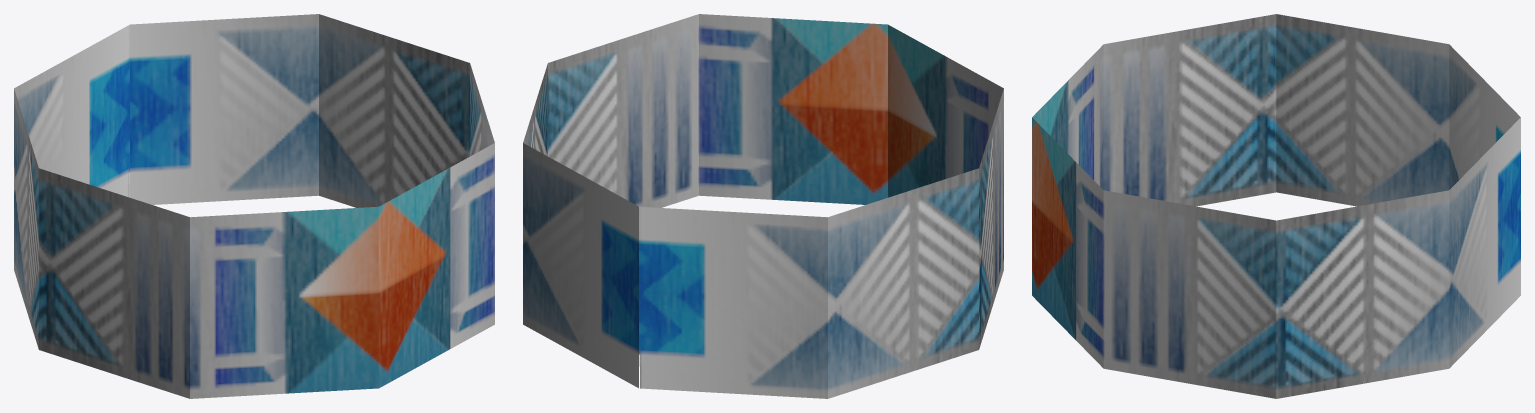
File: taste_5.obj
3 views of the same model, side by side, from view 1: azimuth 30°, elevation 25°; view 2: azimuth 150°, elevation 25°; view 3: azimuth 270°, elevation 25° (orthographic).
Visible parts, largest first — view 1: wheel_d; view 2: wheel_d; view 3: wheel_d.
Boxes of the visible parts, x1,y1,x2,y2 form: wheel_d: (14,14,494,398); wheel_d: (523,14,1003,398); wheel_d: (1032,14,1520,398).
Bounding box in the file's own units: 101 × 40.73 × 101.
1 material, 1 textured.
